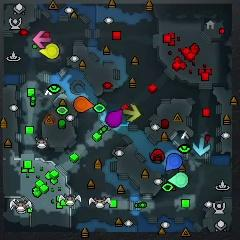p1: (167, 153, 182, 169)
p2: (168, 171, 188, 187)
p3: (106, 110, 123, 127)
p4: (39, 43, 60, 59)
p5: (74, 96, 94, 112)
x1: (34, 31, 51, 47)
x2: (124, 104, 140, 122)
x3: (193, 137, 209, 156)
